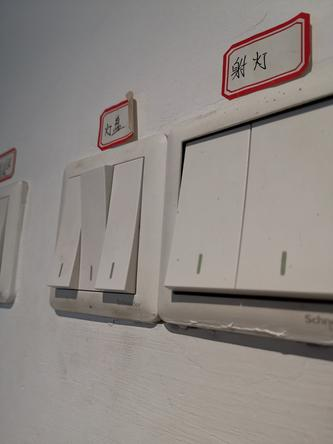switch: (237, 98, 333, 304), (162, 124, 259, 301), (95, 153, 144, 295), (69, 163, 110, 291), (44, 167, 86, 290)
